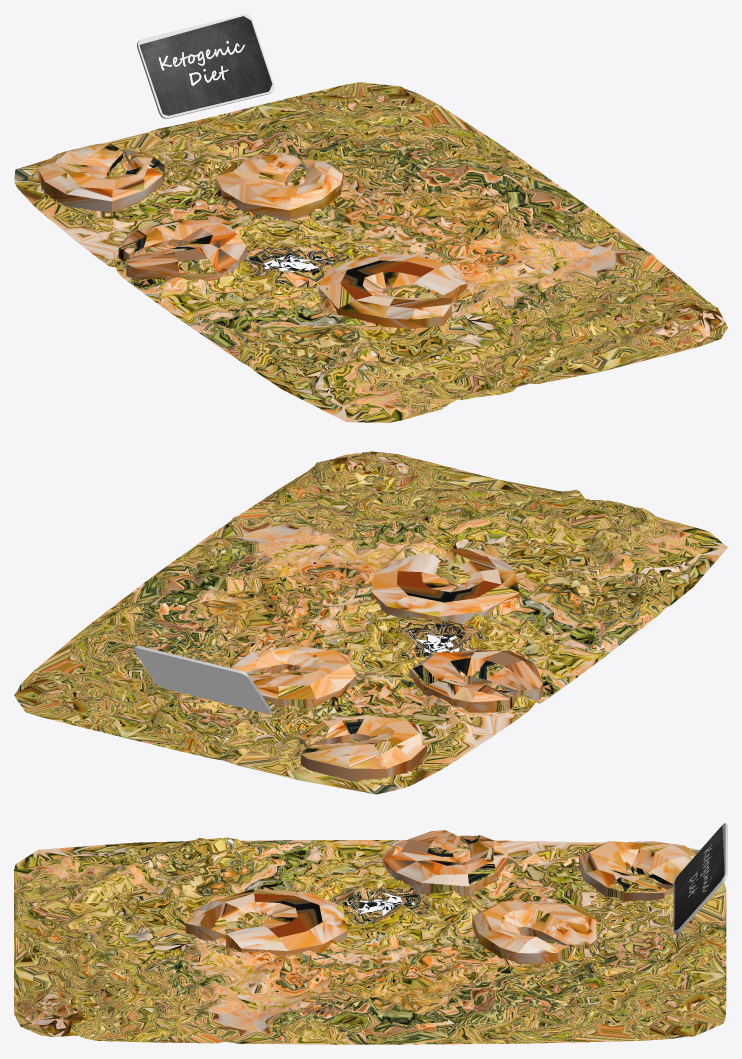
Rendered from food_tray_7.glb.
3 views of the same model, one above another, from view 1: azimuth 30°, elevation 25°; view 2: azimuth 150°, elevation 25°; view 3: azimuth 270°, elevation 25° (orthographic).
Parts seen in each view (by area): view 1: Material2.006, Material2.009, Material2.010; view 2: Material2.006, Material2.010; view 3: Material2.006, Material2.009, Material2.010.
Part boxes in pixels (box(x1,y1,x2,y2)): Material2.006: box(14, 82, 727, 422); Material2.009: box(140, 16, 272, 115); Material2.010: box(137, 14, 274, 118); Material2.006: box(14, 451, 727, 794); Material2.010: box(133, 645, 271, 713); Material2.006: box(14, 830, 726, 1044); Material2.009: box(674, 826, 724, 930); Material2.010: box(673, 823, 727, 934).
Size of the model in its own units: 6.81 by 1.69 by 10.04.
3 materials, 2 textured.
